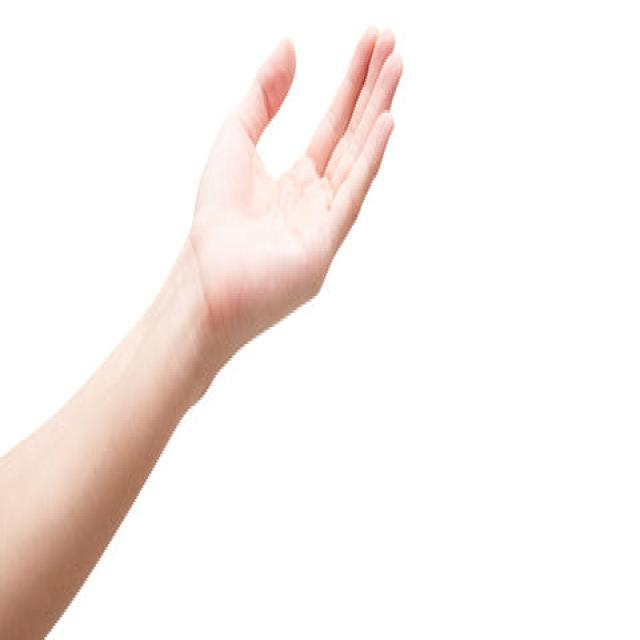hand: (0, 24, 405, 640)
